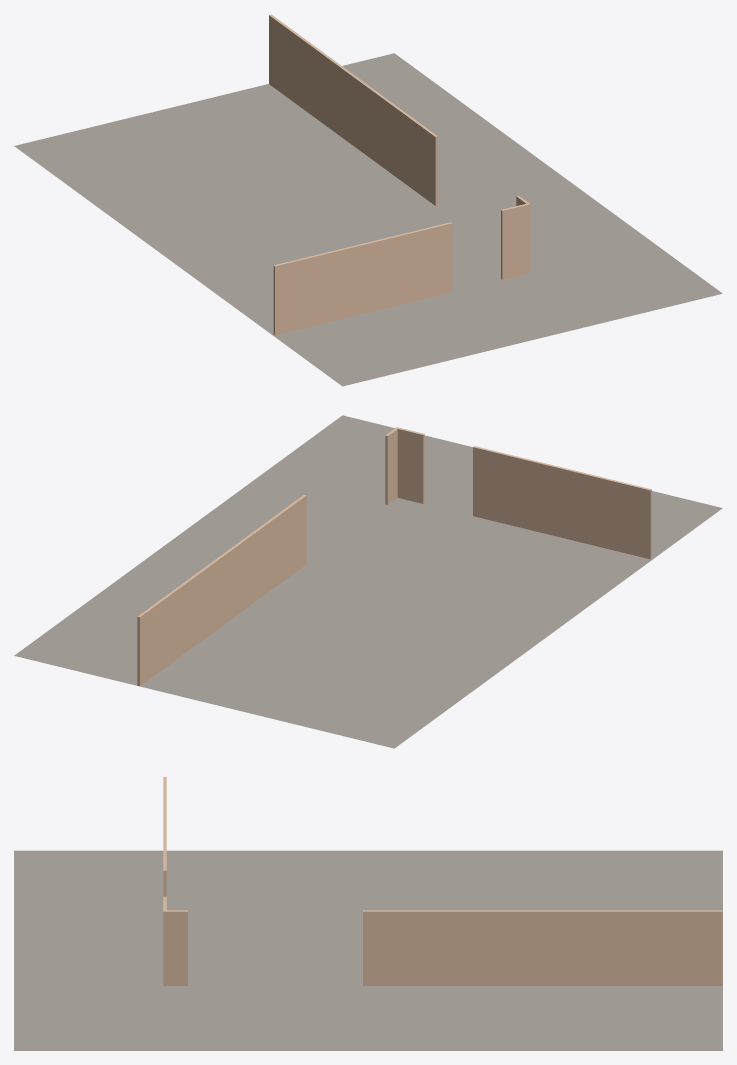
The model's file is Interno29.glb.
3 renders of one model, top to bottom at view 1: azimuth 30°, elevation 25°; view 2: azimuth 150°, elevation 25°; view 3: azimuth 270°, elevation 25°, orthographic. The views are drawn at different scales.
Visible parts, largest first — view 1: PavMuri; view 2: PavMuri; view 3: PavMuri.
Part boxes in pixels (x1,y1,x2,y2): PavMuri: (14, 14, 722, 386); PavMuri: (14, 415, 722, 748); PavMuri: (14, 777, 722, 1050).
Bounding box in the file's own units: 2.89 × 0.5 × 4.32.
